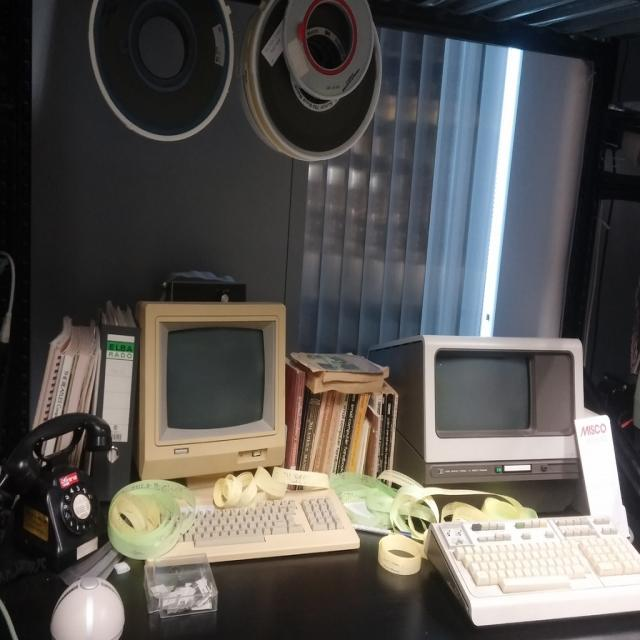desk: (25, 303, 602, 629)
keyboard: (425, 516, 639, 626), (125, 489, 362, 562)
mouse: (50, 575, 126, 640)
tv: (368, 335, 584, 479), (136, 301, 288, 481)
